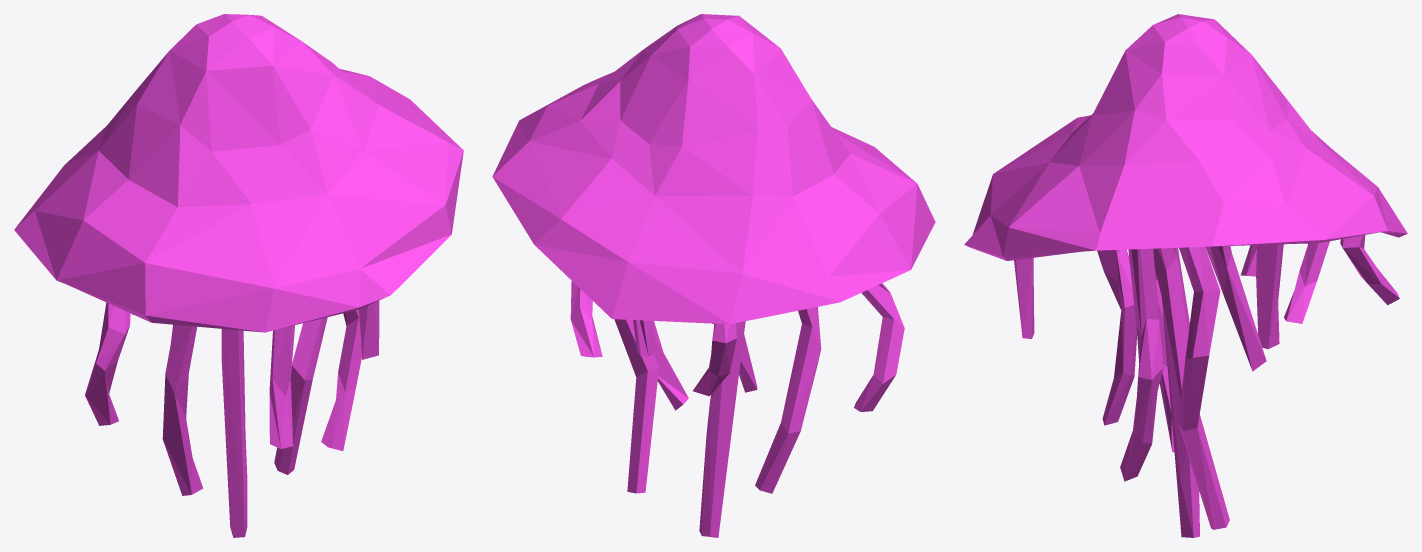
The model's file is SM_Mushroom_Jellyfish_Medium_B_Fantasy.fbx.
3 renders of one model, left to right at view 1: azimuth 30°, elevation 25°; view 2: azimuth 150°, elevation 25°; view 3: azimuth 270°, elevation 25°, orthographic.
Visible parts, largest first — view 1: SM_Mushroom_Jellyfish_Medium_B_Fantasy; view 2: SM_Mushroom_Jellyfish_Medium_B_Fantasy; view 3: SM_Mushroom_Jellyfish_Medium_B_Fantasy.
Boxes of the visible parts, <box> form: SM_Mushroom_Jellyfish_Medium_B_Fantasy: <box>14,14,463,537</box>; SM_Mushroom_Jellyfish_Medium_B_Fantasy: <box>492,14,935,537</box>; SM_Mushroom_Jellyfish_Medium_B_Fantasy: <box>964,14,1407,537</box>.
Bounding box in the file's own units: 0.9248 × 1.23 × 0.96.
